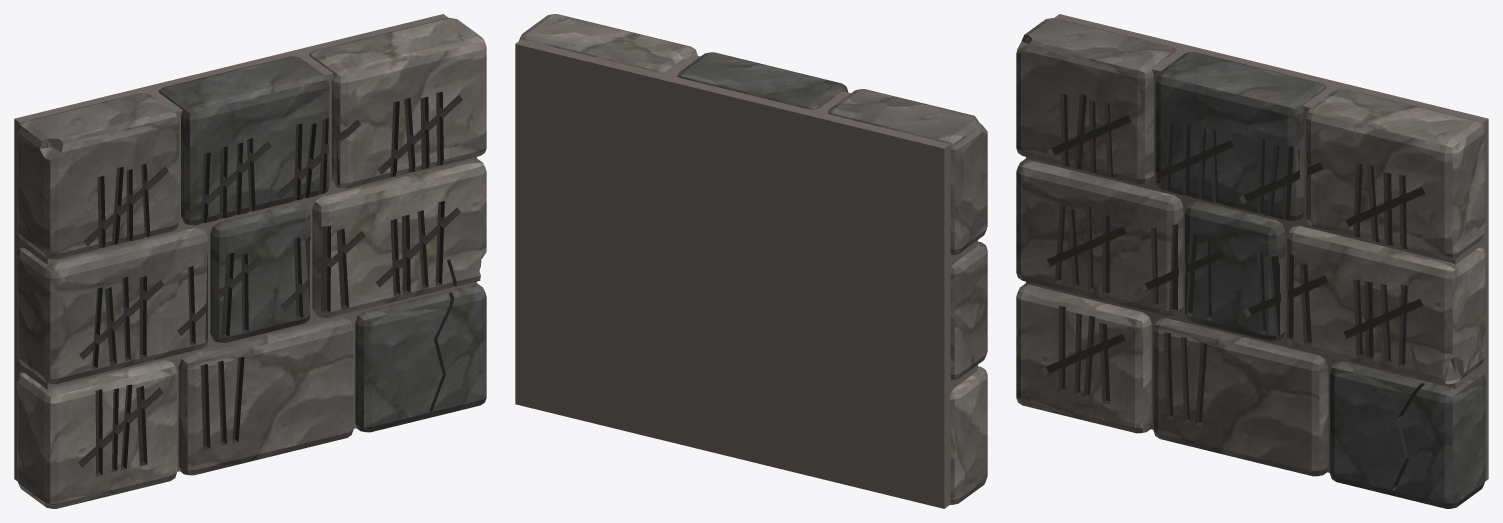
The model's file is tally_marks.glb.
3 renders of one model, left to right at view 1: azimuth 30°, elevation 25°; view 2: azimuth 150°, elevation 25°; view 3: azimuth 330°, elevation 25°, orthographic.
Parts seen in each view (by area): view 1: model; view 2: model; view 3: model.
Part boxes in pixels (x1,y1,x2,y2): model: [14, 14, 486, 508]; model: [515, 14, 987, 508]; model: [1016, 14, 1488, 508].
Size of the model in its own units: 0.988 by 0.788 by 0.16.
5 materials, 3 textured.
